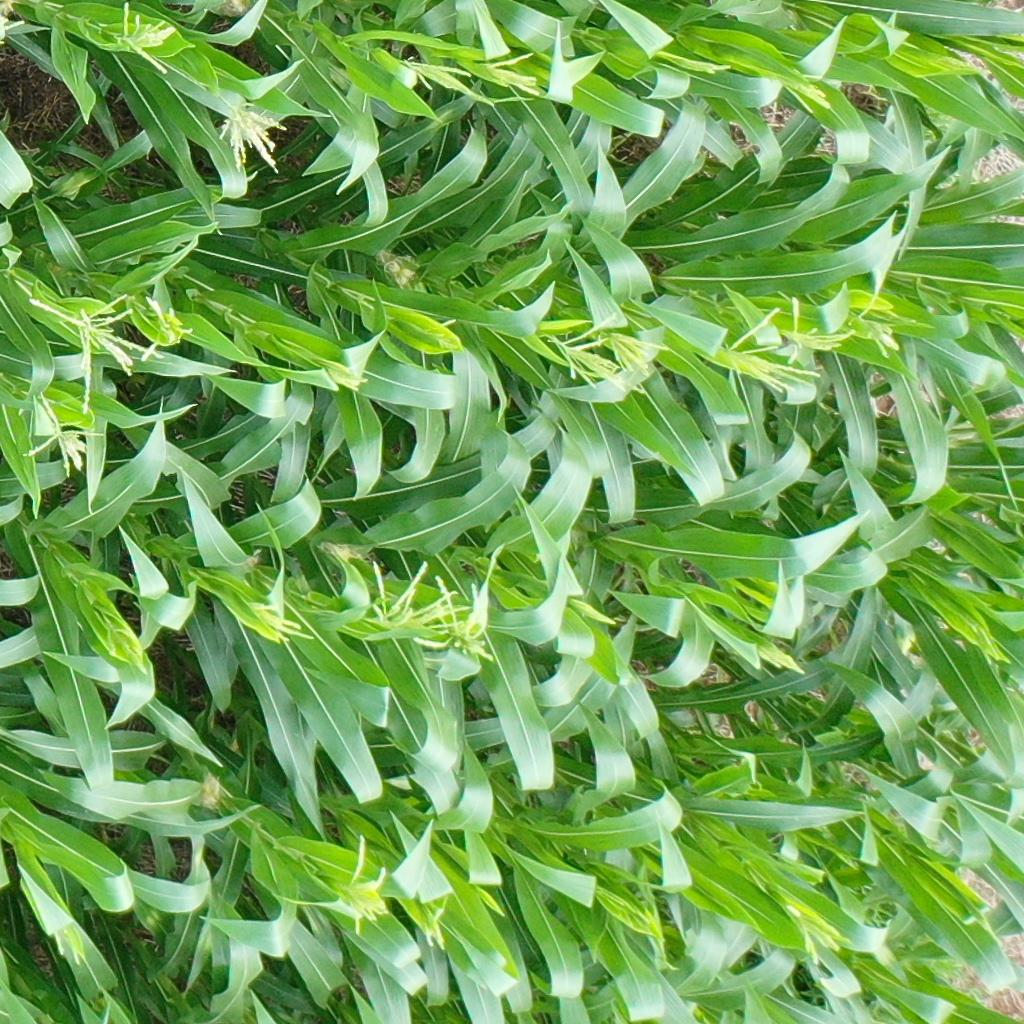Tassel: (26, 288, 143, 413), (718, 306, 822, 392), (362, 554, 461, 643), (416, 572, 504, 667), (24, 394, 98, 482), (545, 308, 626, 383), (333, 831, 390, 935), (393, 49, 490, 105), (777, 295, 854, 365), (215, 103, 285, 174), (111, 2, 178, 75), (783, 898, 847, 974), (855, 269, 904, 359), (137, 297, 195, 364), (250, 597, 318, 645), (491, 46, 551, 99), (609, 328, 670, 377), (777, 67, 836, 115), (314, 359, 367, 396), (416, 900, 452, 952), (416, 314, 457, 356), (660, 51, 732, 74), (52, 930, 87, 965)
